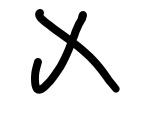mult: (31, 9, 121, 94)
